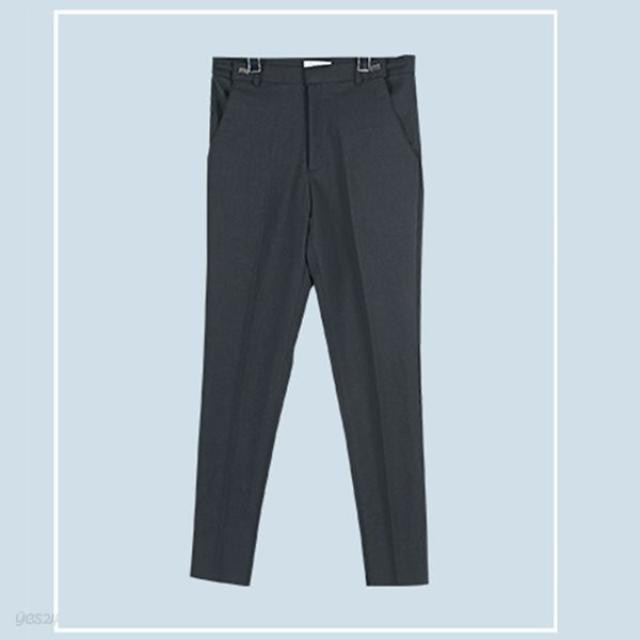pants: (188, 55, 434, 591)
